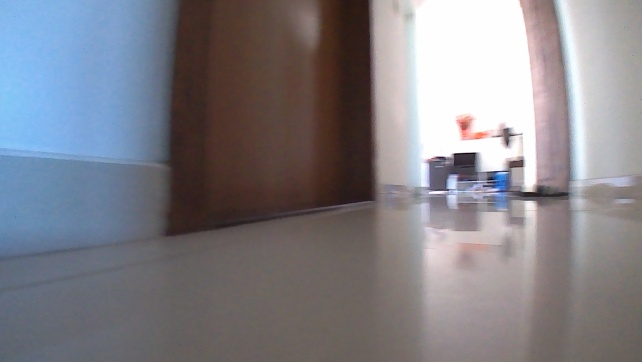door_anno: (161, 0, 375, 239)
